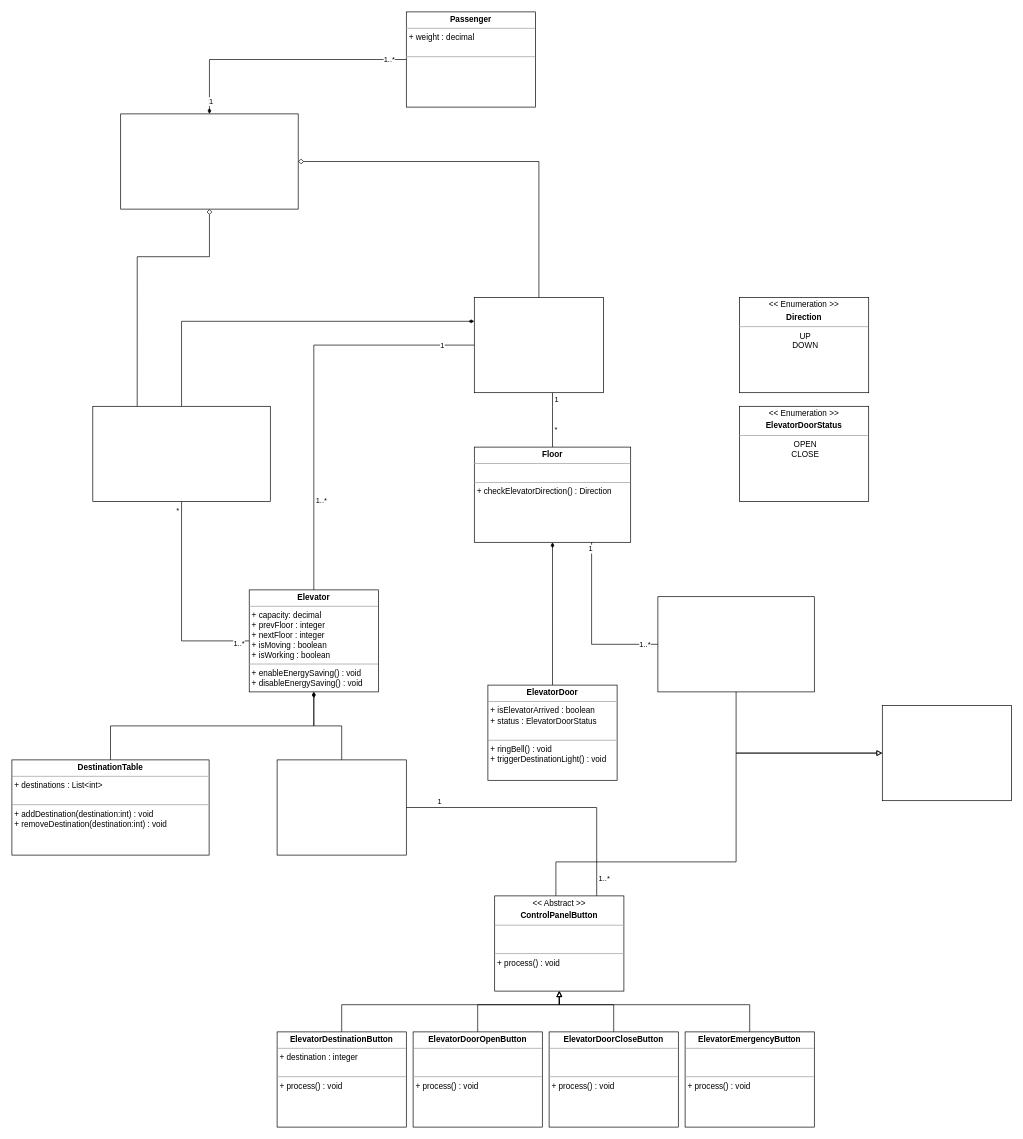
Image size: 1023x1139. Some labels were removed from this diagram. The shapes that lost their labels are listed below. From the top down, each one's box as (x1, y1, x2, y2) in pixels, then its label:
(120, 113, 298, 209): Simulator + timer : dateTime + generateRandomDestination() : integer
(474, 297, 604, 393): Building
(92, 406, 270, 502): Programmer + setNextLocation(elevator:Elevator) : void
(657, 596, 814, 692): FloorButton + process() : void
(882, 705, 1012, 801): << Abstract >> Button + process() : void
(276, 759, 406, 855): ControlPanel + capacity: decimal
